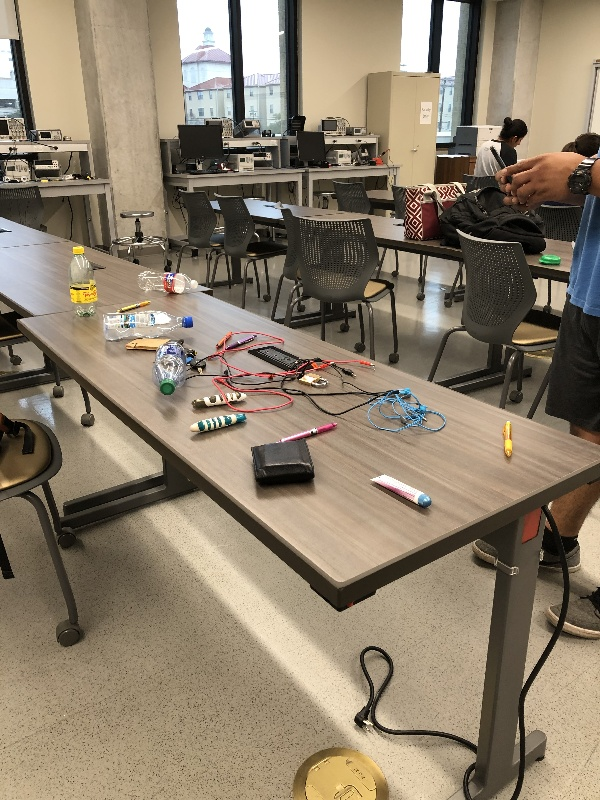bottle: (99, 306, 199, 343), (62, 241, 109, 313), (151, 338, 191, 401), (135, 268, 202, 293)
